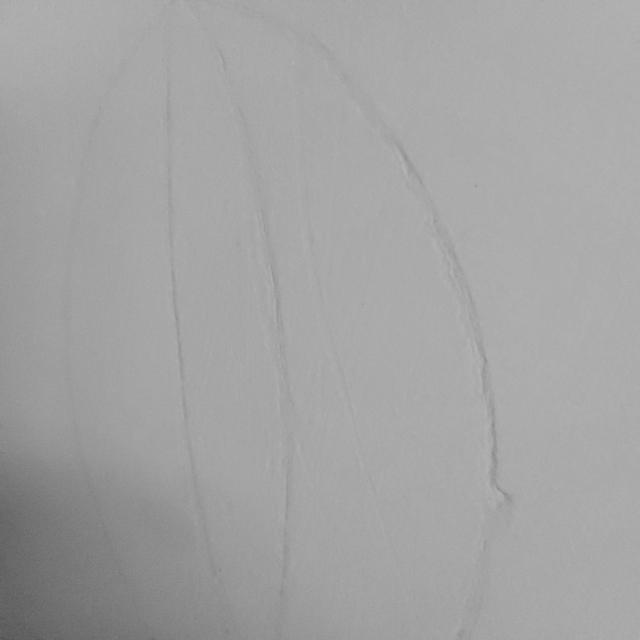rough and patchy surface: (141, 57, 518, 514), (178, 525, 524, 630), (150, 10, 377, 48)
